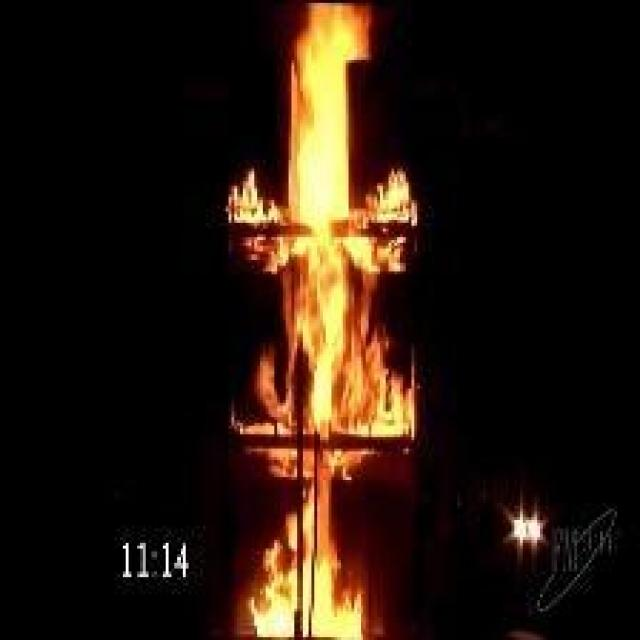fire: (192, 3, 457, 640)
